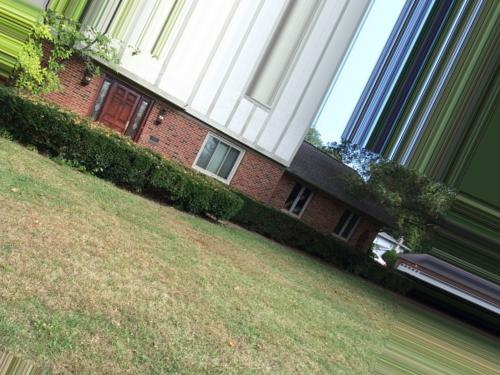patch: (65, 233, 125, 290), (32, 180, 102, 218), (136, 234, 177, 293), (119, 307, 179, 344), (190, 302, 226, 342), (17, 231, 46, 272), (201, 245, 240, 274)
